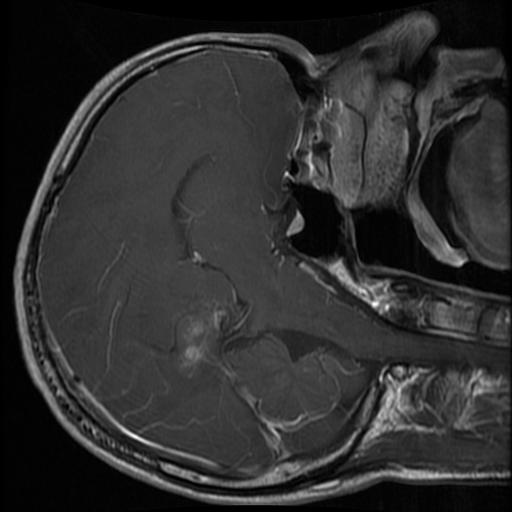glioma: (174, 302, 225, 378)
